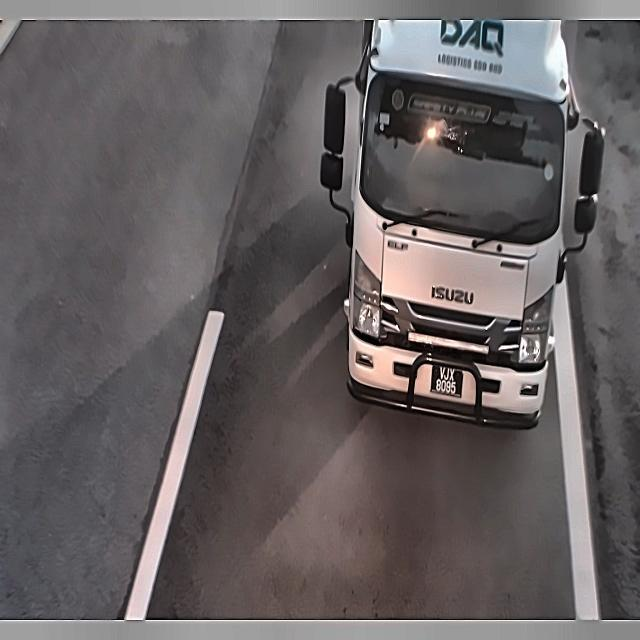car: (426, 356, 466, 402)
